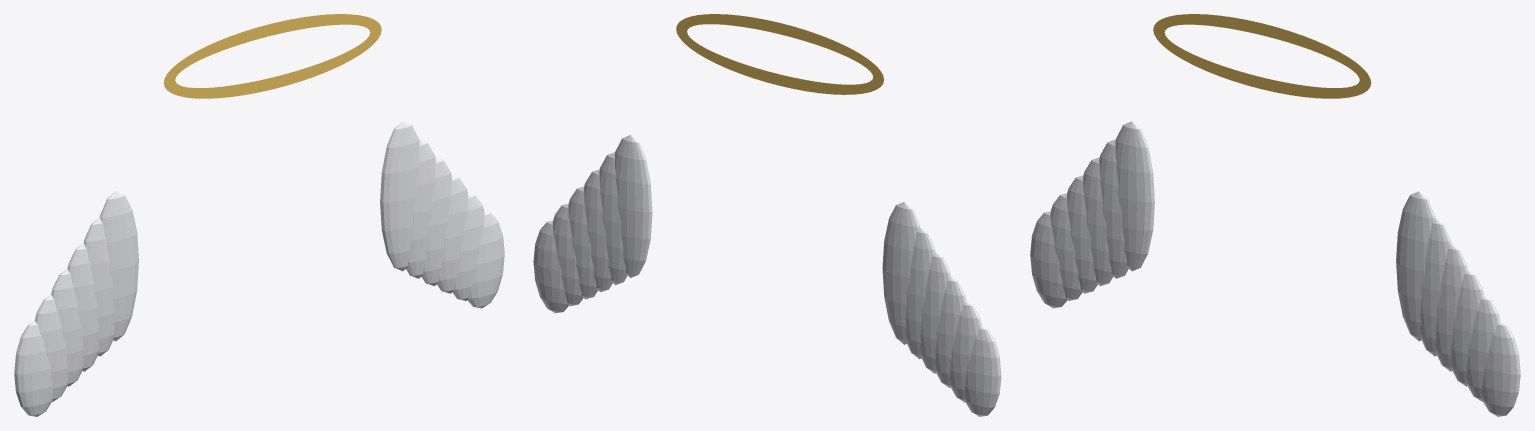
The model's file is angel.glb.
3 views of the same model, side by side, from view 1: azimuth 30°, elevation 25°; view 2: azimuth 150°, elevation 25°; view 3: azimuth 330°, elevation 25° (orthographic). The views are drawn at different scales.
Visible parts, largest first — view 1: feather (×12), halo; view 2: feather (×12), halo; view 3: feather (×12), halo.
Part boxes in pixels (box(x1,y1,x2,y2)): feather (×12): box(14, 121, 504, 416); halo: box(163, 14, 381, 98); feather (×12): box(533, 135, 1001, 416); halo: box(676, 14, 883, 94); feather (×12): box(1030, 121, 1520, 416); halo: box(1153, 14, 1371, 98).
Size of the model in its own units: 3.42 by 2.33 by 0.21.
